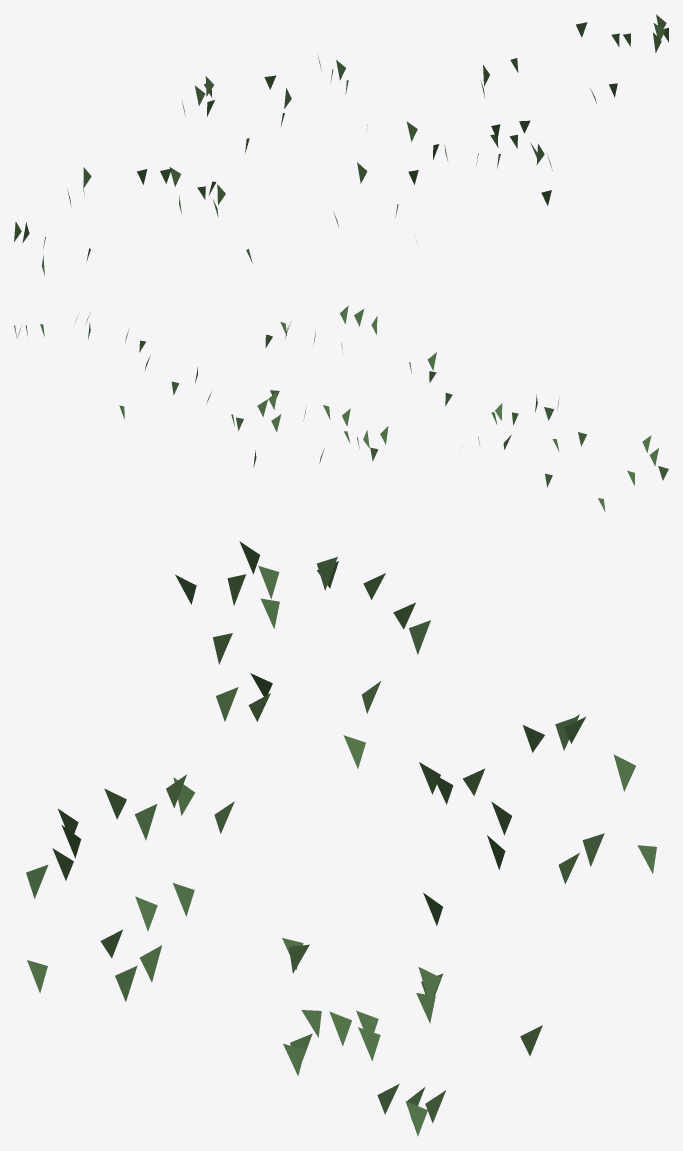
Rendered from teaching3-vegetation-03-far.glb.
3 views of the same model, one above another, from view 1: azimuth 30°, elevation 25°; view 2: azimuth 150°, elevation 25°; view 3: azimuth 270°, elevation 25° (orthographic). The views are drawn at different scales.
Visible parts, largest first — view 1: shrubs.003; view 2: shrubs.003; view 3: shrubs.003.
Boxes of the visible parts, x1,y1,x2,y2 form: shrubs.003: (14,14,668,276); shrubs.003: (14,305,668,511); shrubs.003: (26,541,656,1136).
Size of the model in its own units: 10.65 by 1.49 by 4.81.
